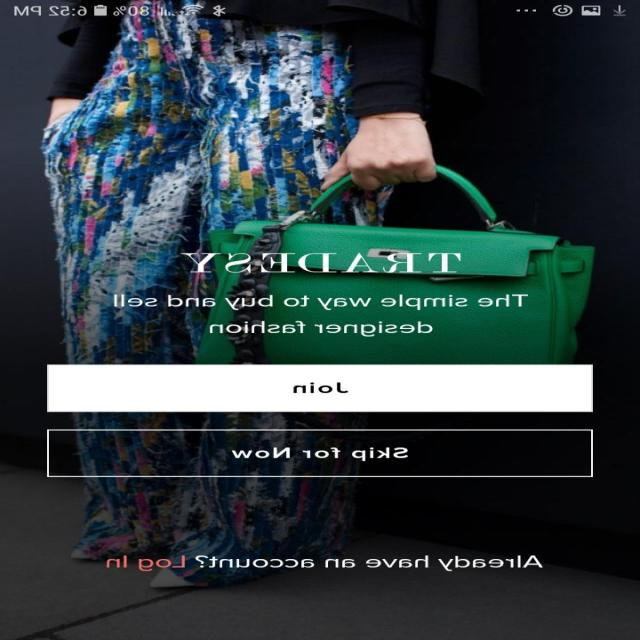BackgroundImage: (1, 0, 640, 639)
Text: (114, 294, 529, 336), (106, 554, 544, 571), (182, 252, 462, 273)
TextButton: (47, 429, 594, 477), (48, 364, 594, 412)
